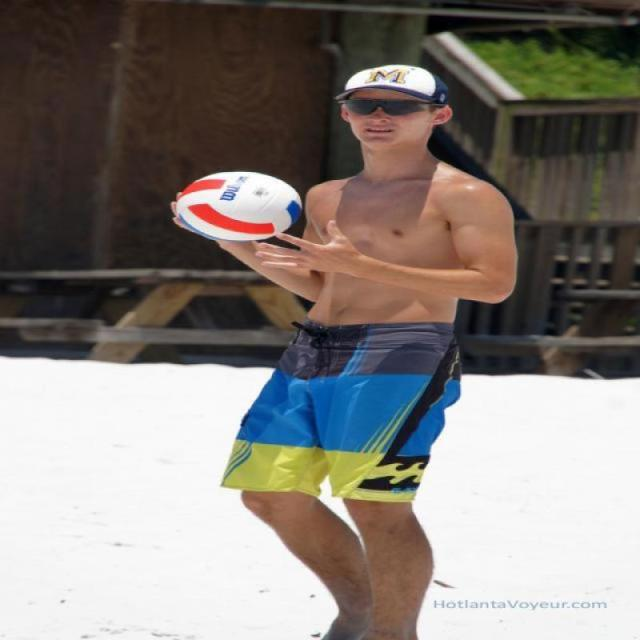volleyball: (175, 171, 302, 243)
